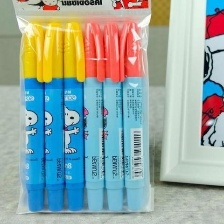correction_fluid: (117, 19, 147, 211), (21, 20, 47, 213), (62, 20, 87, 212), (42, 19, 66, 213), (84, 19, 107, 212), (101, 20, 124, 212)
